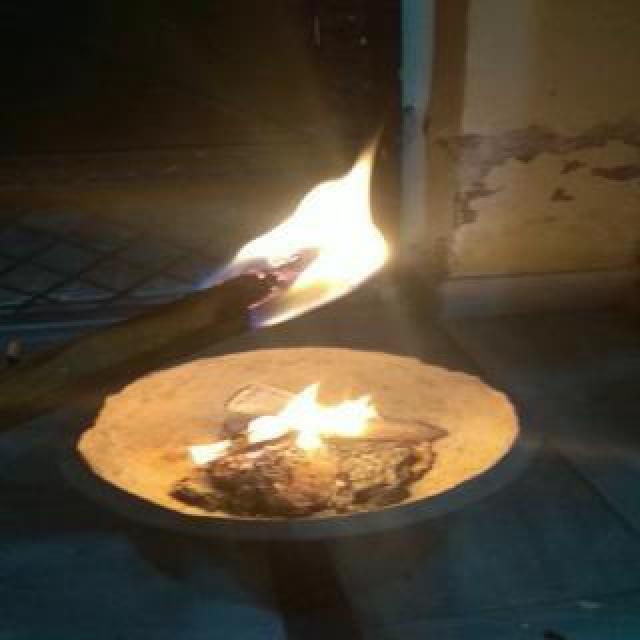Fire: (196, 100, 386, 340), (172, 384, 380, 466)
